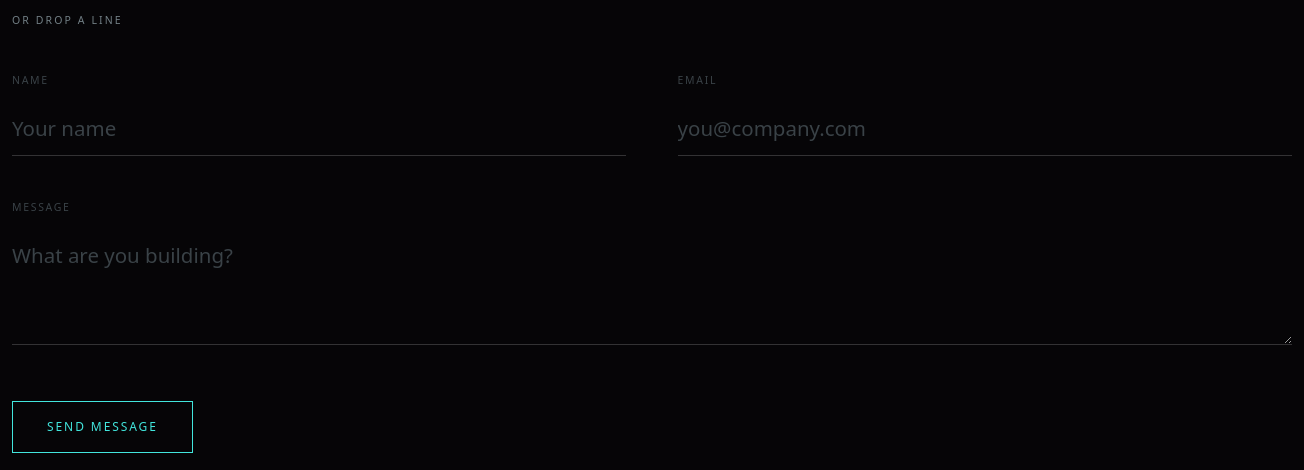
Test: ContactForm › composes a mailto URL from the fields and shows confirmation
In the field with placeholder "Your name": [319, 128] box [12,100,626,156], type "Jane"
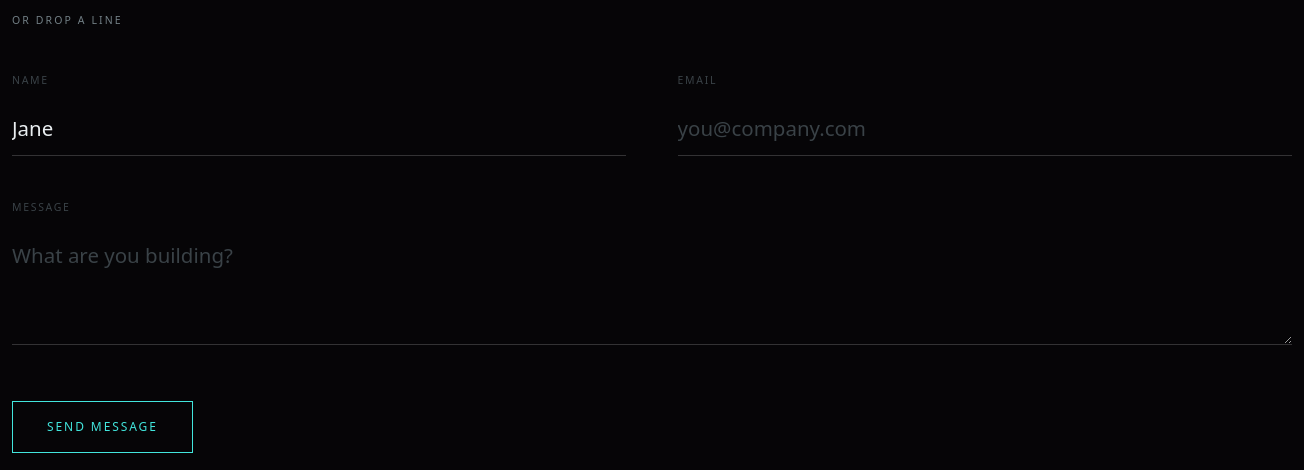
In the field with placeholder "you@company.com": [985, 128] box [678,100,1292,156], type "jane@x.com"
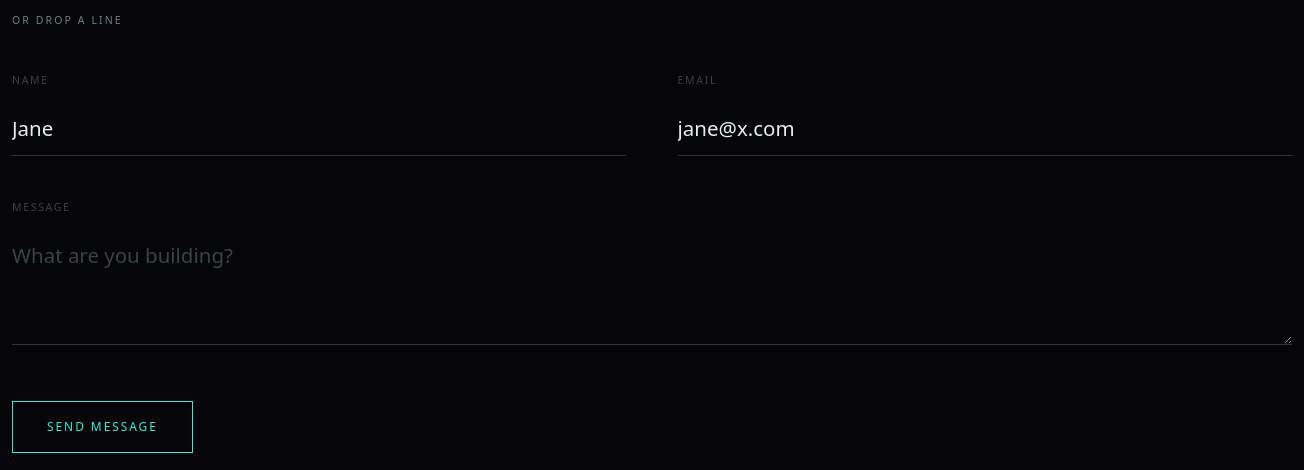
In the text box with placeholder "What are you building?": [652, 287] box [12,228,1292,345], type "Hello"
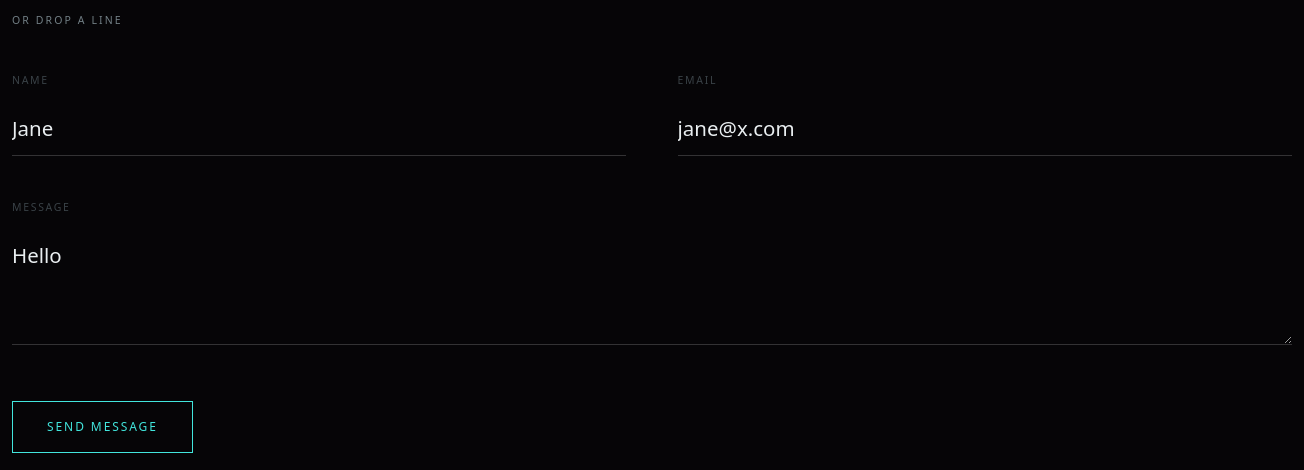
Click the button "Send message": [102, 427] box [12,401,193,453]
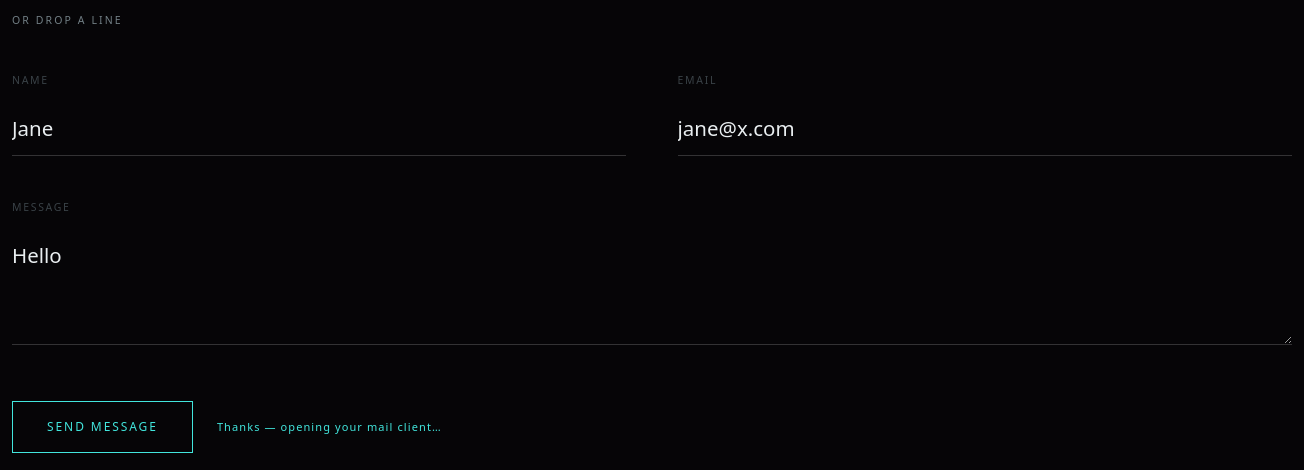
Now the message reads "Thanks — opening your mail client…", box [217,419,442,434]
